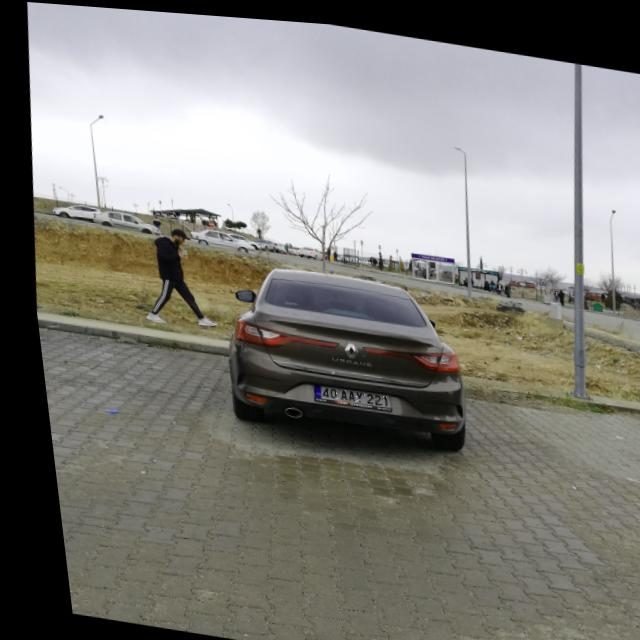license_plate: (304, 380, 382, 402)
